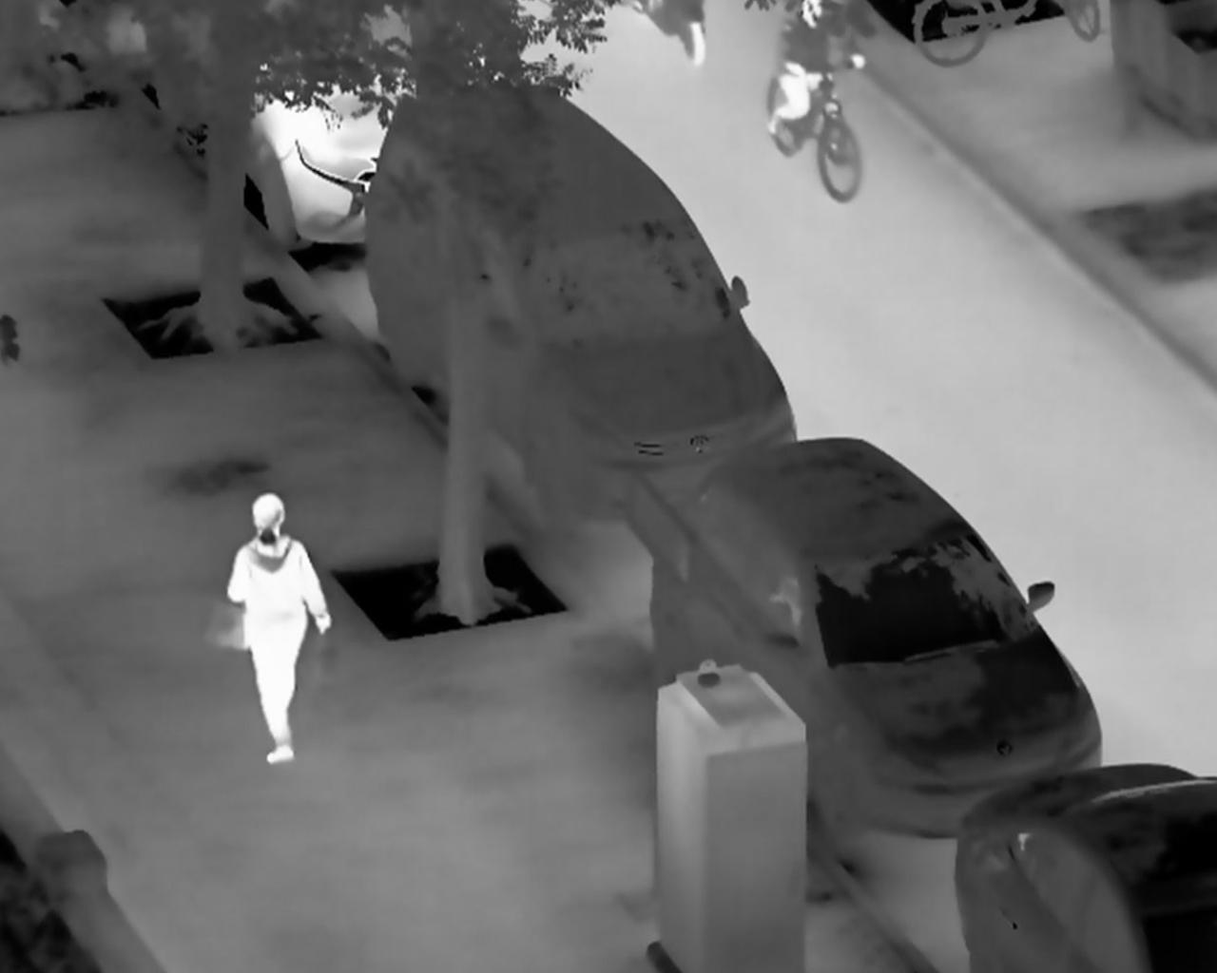person: (226, 490, 334, 768)
